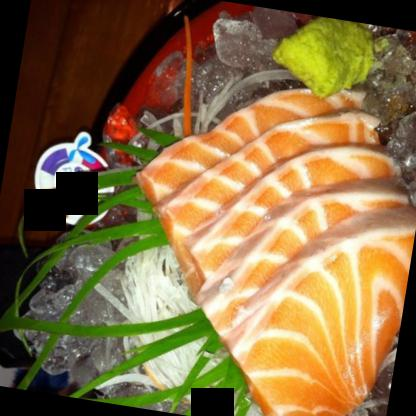salmon: (211, 181, 415, 415), (156, 82, 390, 282), (195, 154, 402, 370), (175, 124, 400, 317), (138, 55, 366, 239)
